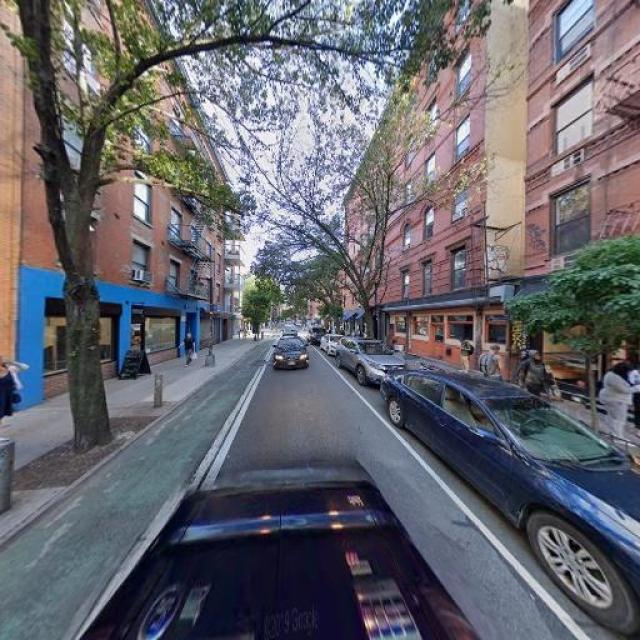Building: (22, 1, 220, 398), (350, 1, 488, 375), (529, 1, 640, 419), (1, 1, 13, 404)
